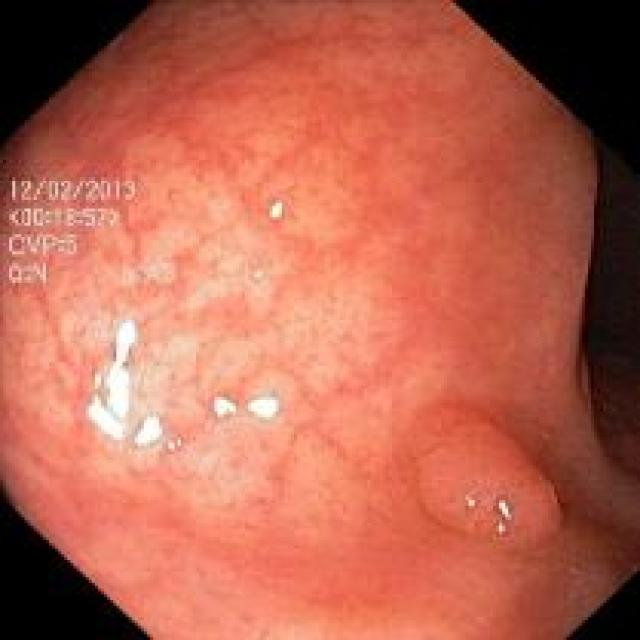Polyps: (418, 405, 564, 542)
